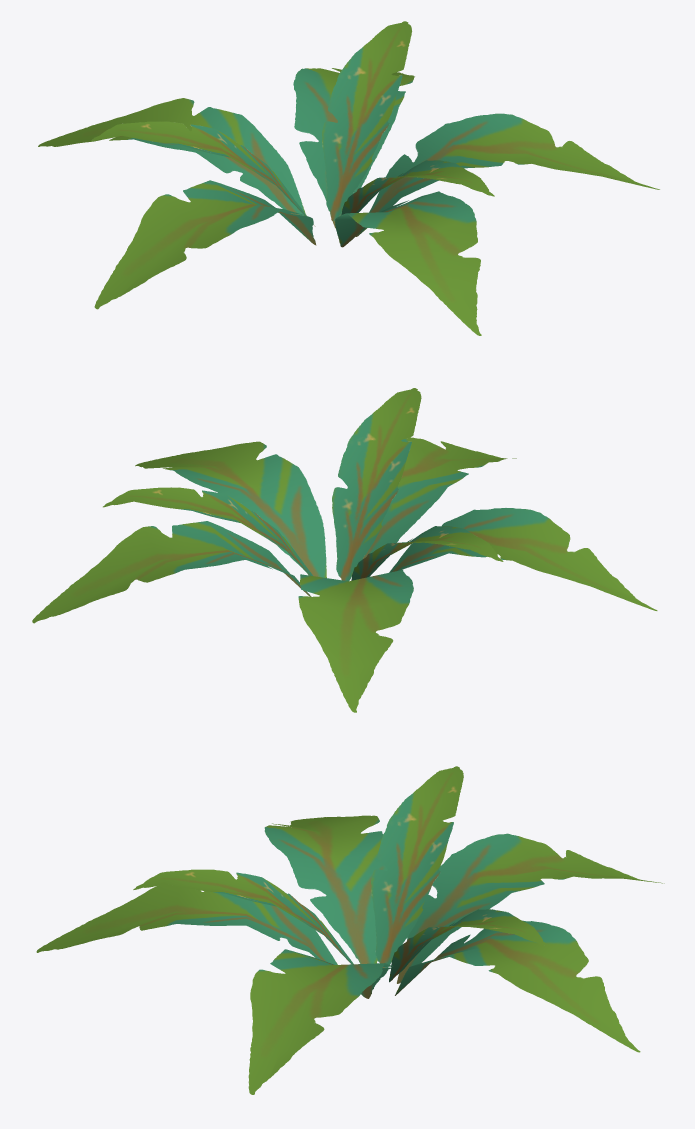
Rendered from MS_Plant2.fbx.
3 renders of one model, top to bottom at view 1: azimuth 30°, elevation 25°; view 2: azimuth 150°, elevation 25°; view 3: azimuth 270°, elevation 25°, orthographic. The views are drawn at different scales.
Parts seen in each view (by area): view 1: Plant2; view 2: Plant2; view 3: Plant2.
Part boxes in pixels (<box>): Plant2: <box>38,21,659,335</box>; Plant2: <box>32,388,657,712</box>; Plant2: <box>36,766,664,1094</box>.
Size of the model in its own units: 152 by 34.77 by 146.
